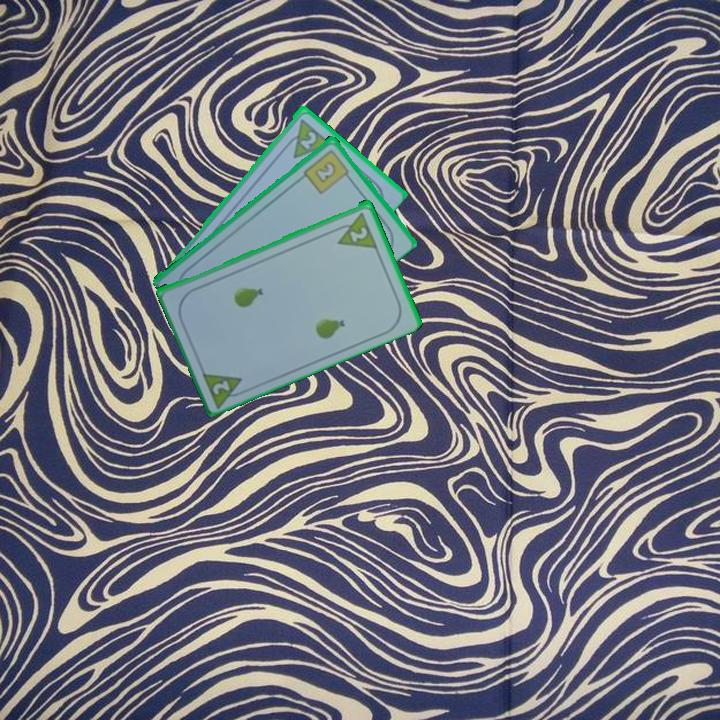2b: (300, 146, 354, 196)
2p: (198, 367, 251, 409), (296, 127, 319, 152), (346, 222, 370, 244)
